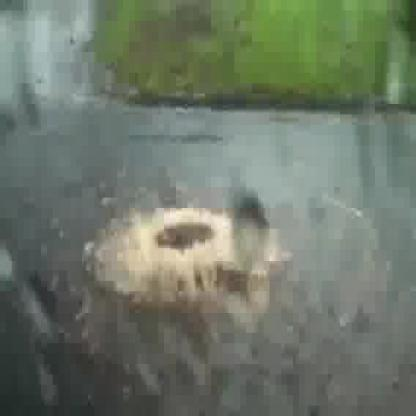drainage overflow-repair-: (91, 202, 262, 310)
